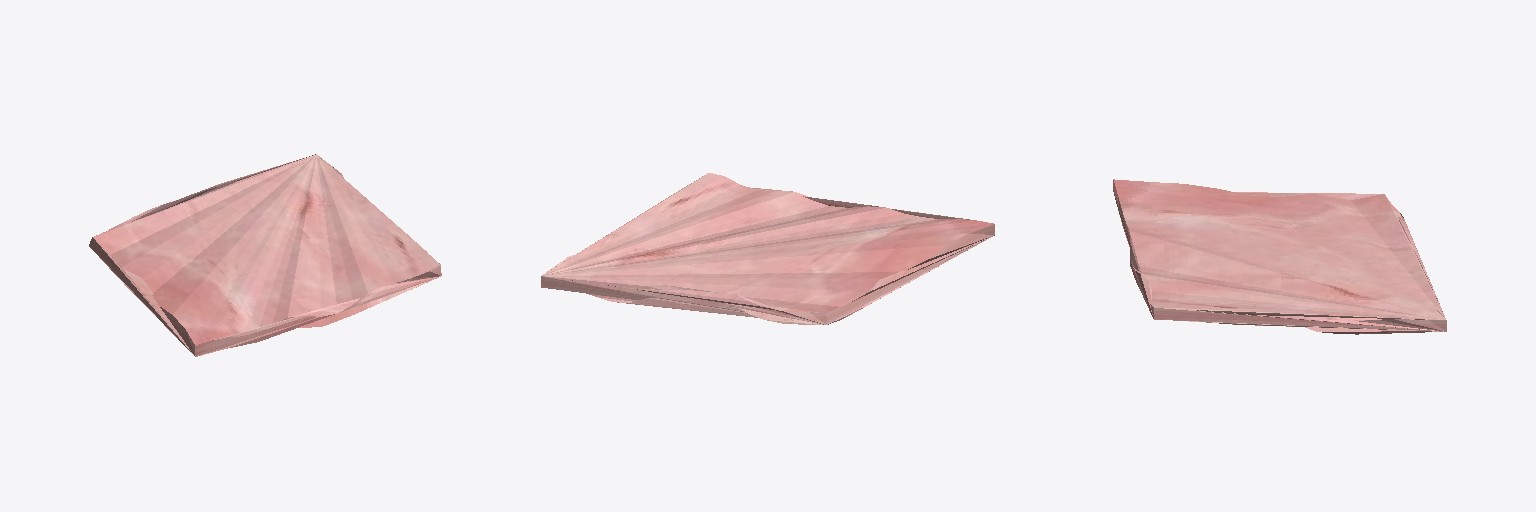
3 views of the same model, side by side, from view 1: azimuth 30°, elevation 25°; view 2: azimuth 150°, elevation 25°; view 3: azimuth 270°, elevation 25° (orthographic).
Visible parts, largest first — view 1: Cube_Cube.001; view 2: Cube_Cube.001; view 3: Cube_Cube.001.
Part boxes in pixels (x1,y1,x2,y2): Cube_Cube.001: (89,154,441,356); Cube_Cube.001: (541,173,994,324); Cube_Cube.001: (1113,179,1446,334).
Bounding box in the file's own units: 0.1612 × 0.0151 × 0.1617.
1 materials, 1 textured.